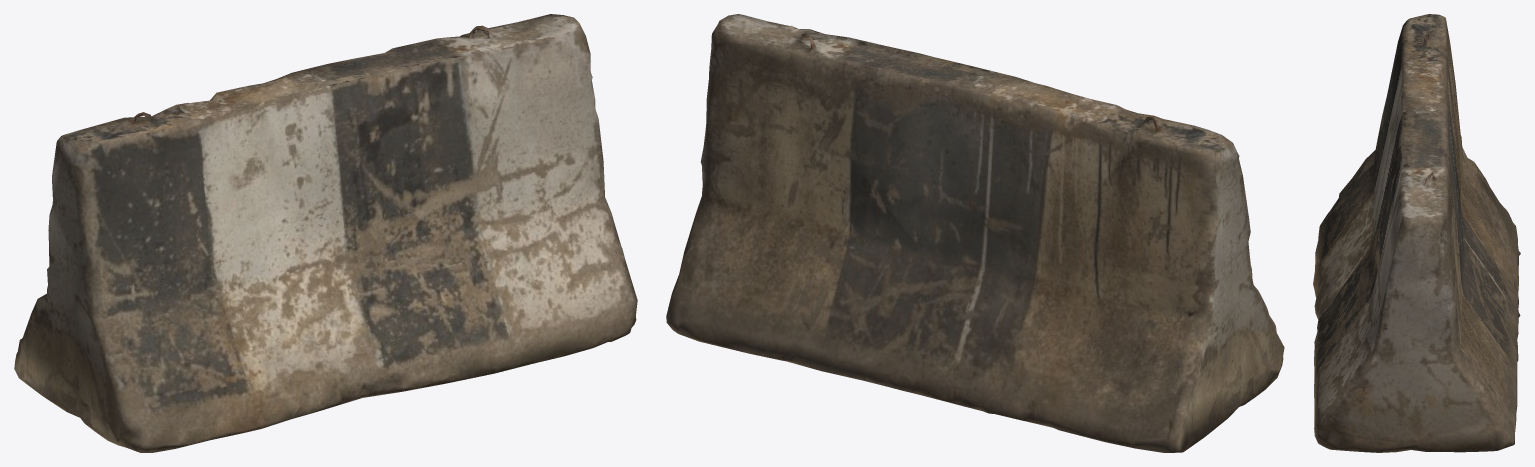
The model's file is concrete_road_barrier.glb.
The picture shows the model from 3 angles, left to right: view 1: azimuth 30°, elevation 25°; view 2: azimuth 150°, elevation 25°; view 3: azimuth 270°, elevation 25°; orthographic projection. The views are drawn at different scales.
Parts seen in each view (by area): view 1: concrete_road_barrier; view 2: concrete_road_barrier; view 3: concrete_road_barrier.
Boxes of the visible parts, <box> form: concrete_road_barrier: <box>14,14,637,452</box>; concrete_road_barrier: <box>666,14,1284,452</box>; concrete_road_barrier: <box>1313,14,1520,452</box>.
Bounding box in the file's own units: 1.54 × 0.8297 × 0.6387.
1 material, 1 textured.
